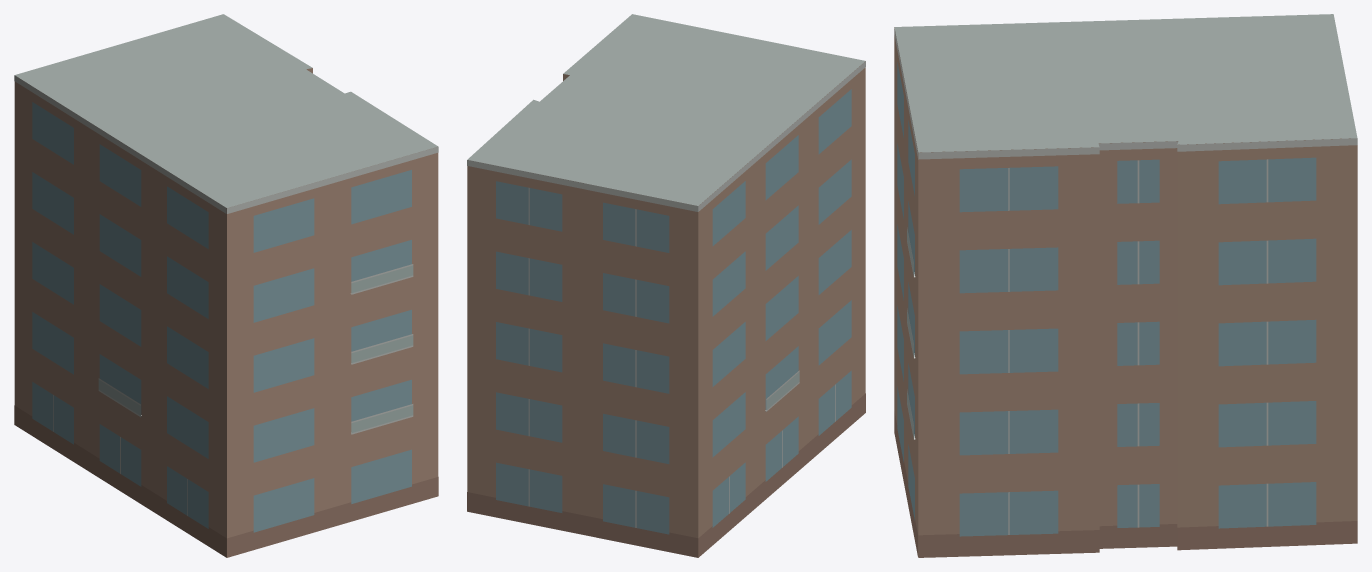
File: survey-upis-32723365.glb
3 views of the same model, side by side, from view 1: azimuth 30°, elevation 25°; view 2: azimuth 150°, elevation 25°; view 3: azimuth 270°, elevation 25° (orthographic). The views are drawn at different scales.
Parts seen in each view (by area): view 1: survey-upis-32723365.tmp; view 2: survey-upis-32723365.tmp; view 3: survey-upis-32723365.tmp.
Part boxes in pixels (x1,y1,x2,y2): survey-upis-32723365.tmp: (14, 14, 438, 557); survey-upis-32723365.tmp: (467, 14, 865, 557); survey-upis-32723365.tmp: (894, 14, 1357, 557).
Size of the model in its own units: 10.34 by 14.1 by 14.61.
